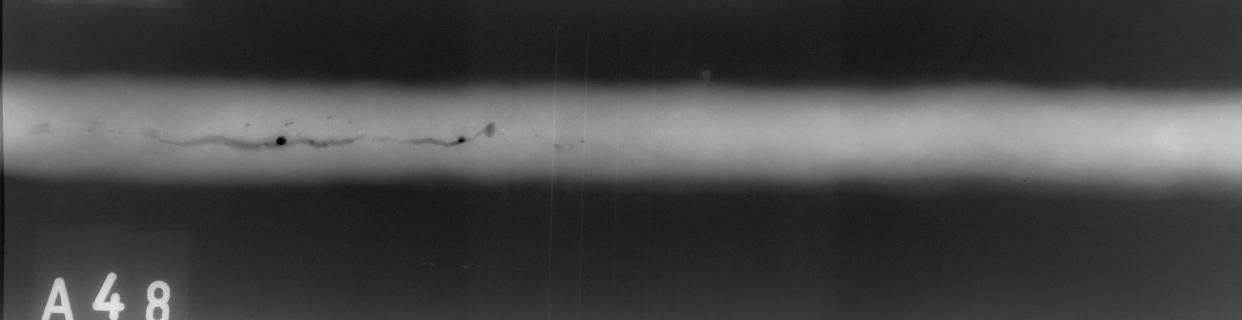FP: (37, 101, 636, 170)
